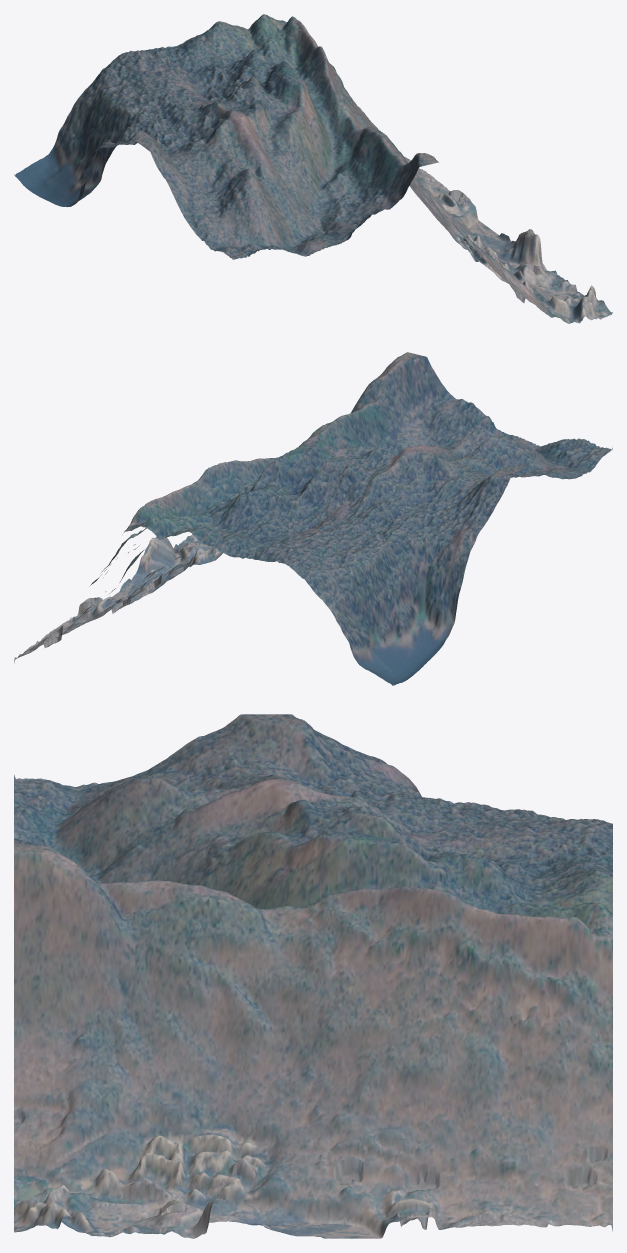
The model's file is dsm_088eb0d01c_mesh.glb.
3 renders of one model, top to bottom at view 1: azimuth 30°, elevation 25°; view 2: azimuth 150°, elevation 25°; view 3: azimuth 270°, elevation 25°, orthographic. The views are drawn at different scales.
Parts seen in each view (by area): view 1: geometry_0; view 2: geometry_0; view 3: geometry_0.
Boxes of the visible parts, bbox=[...] form: geometry_0: bbox=[14, 14, 612, 323]; geometry_0: bbox=[14, 352, 612, 685]; geometry_0: bbox=[14, 714, 612, 1238].
Size of the model in its own units: 2 by 1 by 2.
